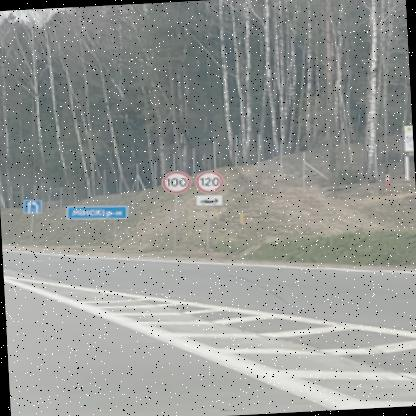speedlimit: (160, 168, 190, 191), (193, 168, 220, 189)
